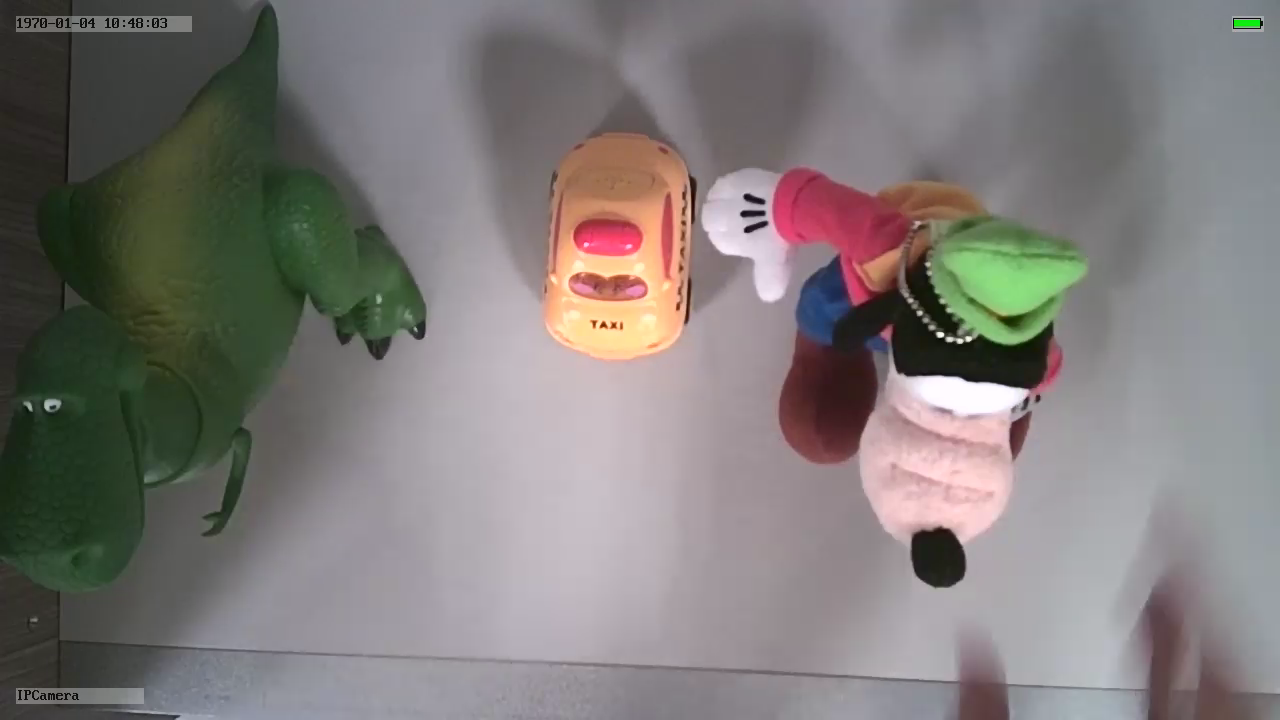goofy: (701, 159, 1083, 594)
